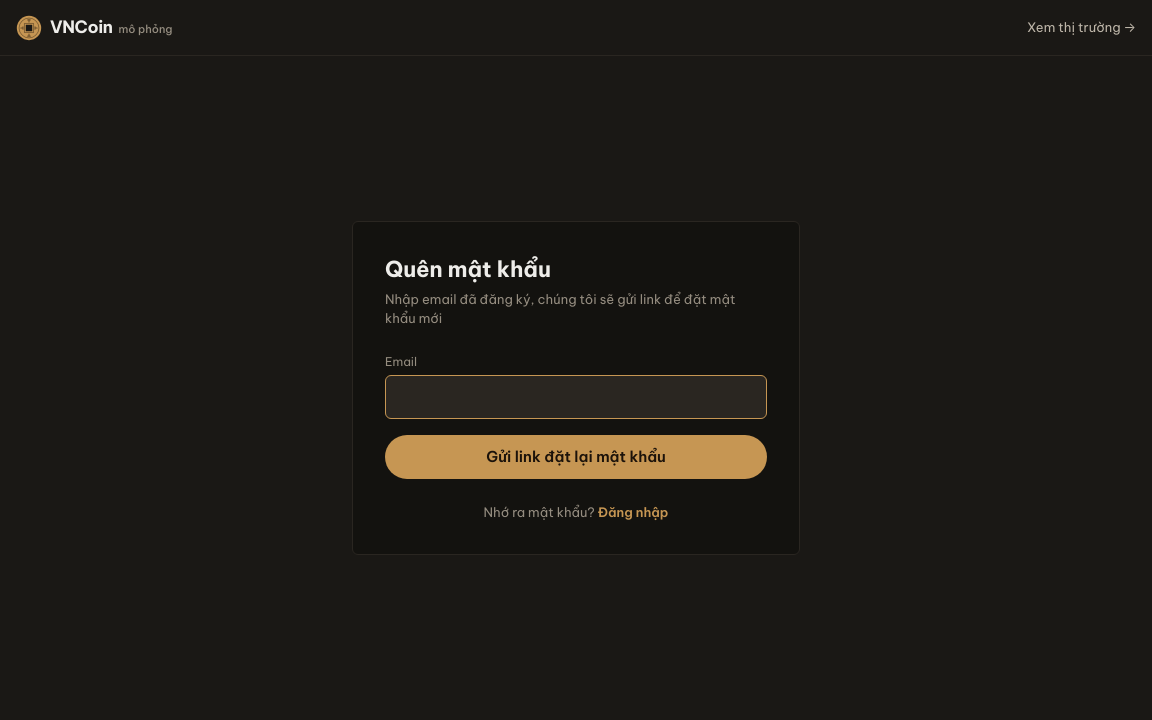
Quên mật khẩu › gửi yêu cầu rồi hiện hướng dẫn kiểm tra hộp thư (không tiết lộ email có tồn tại hay không)
Step 1. Type "Lan@Example.test " into the field → (576, 397), box [385,375,767,419]
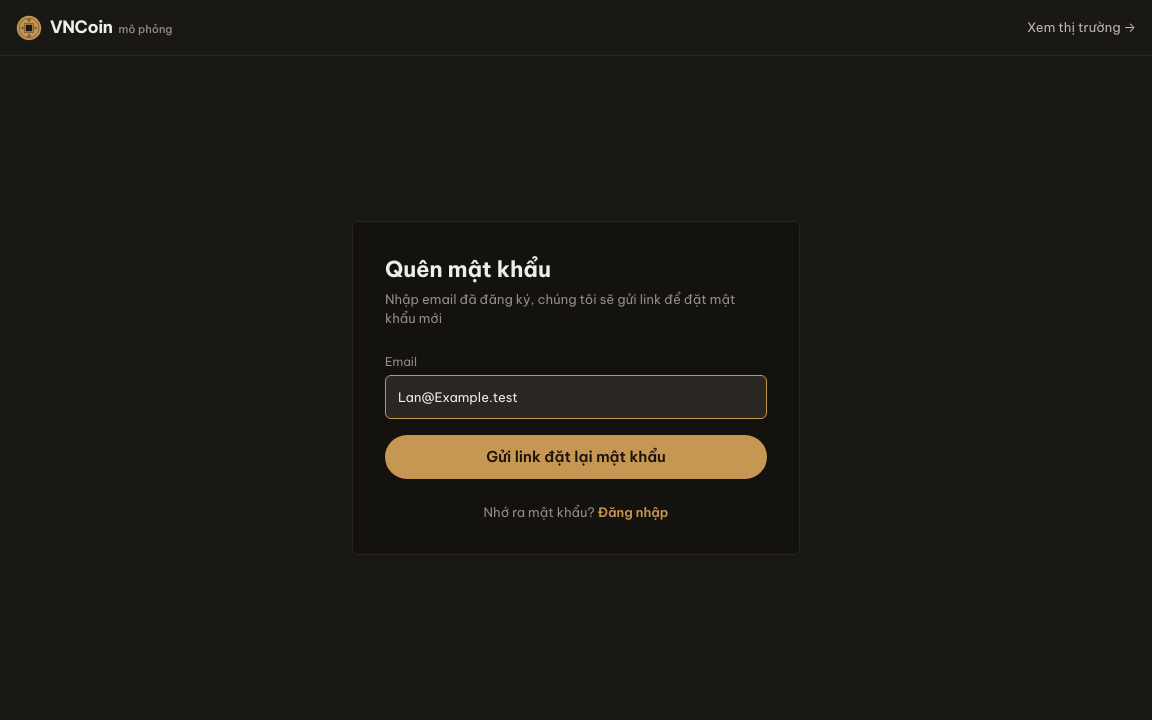
Step 2. Click the button "Gửi link đặt lại mật khẩu" → (576, 457), box [385,435,767,479]
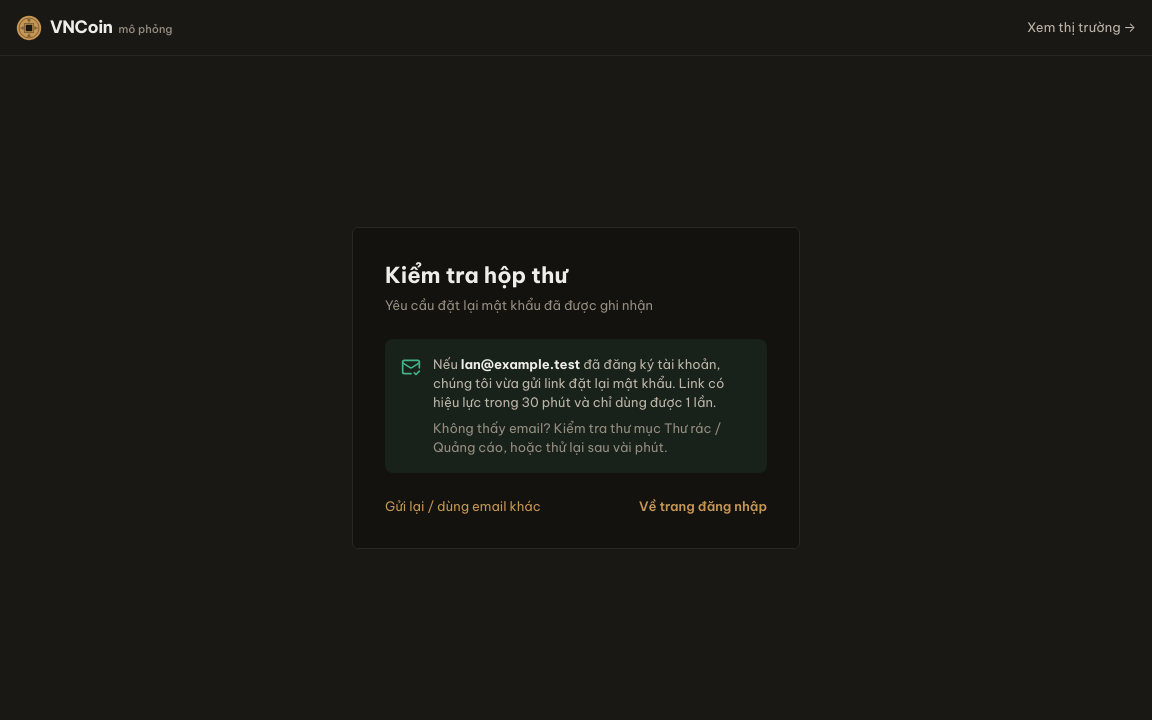
Result: the heading "Kiểm tra hộp thư" is shown at [385,261,567,289]
